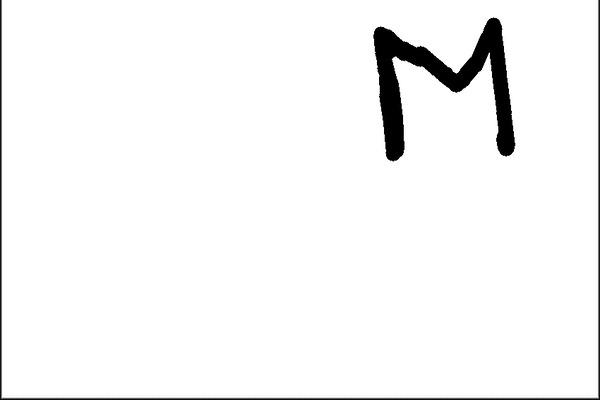M: (367, 13, 519, 158)
